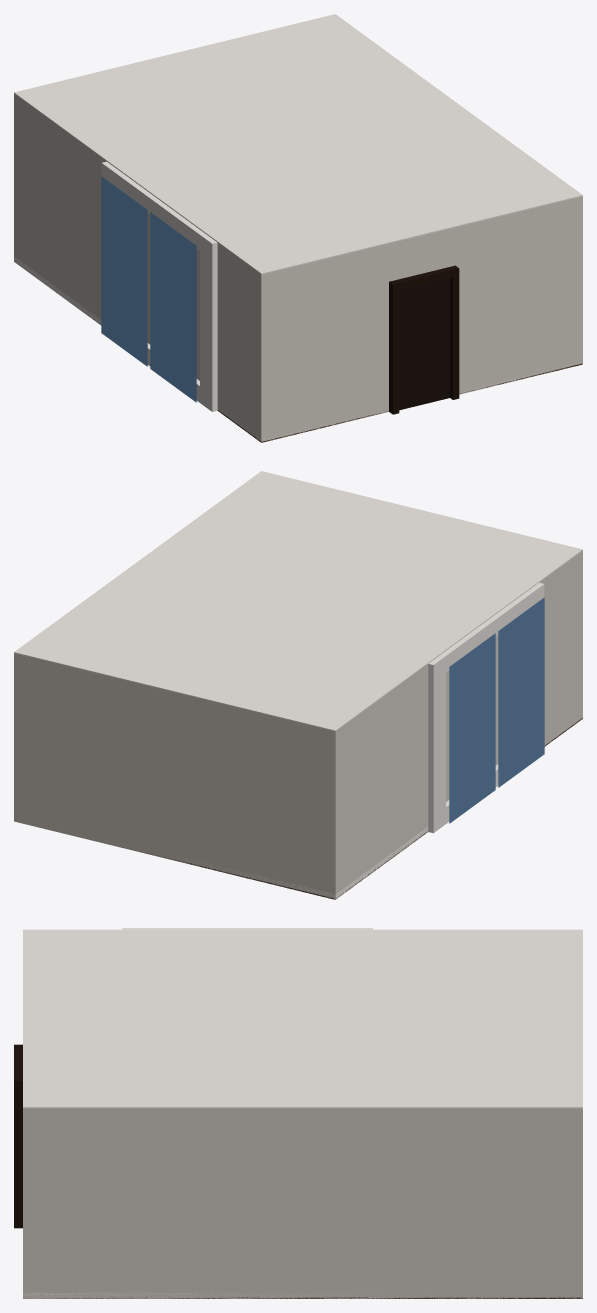
The model's file is bedroom_assembly.fbx.
3 renders of one model, top to bottom at view 1: azimuth 30°, elevation 25°; view 2: azimuth 150°, elevation 25°; view 3: azimuth 270°, elevation 25°, orthographic. The views are drawn at different scales.
Visible parts, largest first — view 1: Room_Shell|Ceiling_L_Bedroom_shell.blend|Dupli|1, Room_Shell|Wall_South_L_Bedroom_shell.blend|Dupli|3, Room_Shell|Wall_West_L_Bedroom_shell.blend|Dupli|5, Window_Frame_Group.001|Window_NightExterior_L_window.blend|D, Window_Frame_Group|Window_NightExterior_L_window.blend|Dupli, Door_Master_Col|Door_Panel_L_door.blend|Dupli|1, Window_Frame_Group.001|Wall_Left_L_window.blend|Dupli|2, Door_Master_Col|Frame_Left_L_door.blend|Dupli|28, Door_Master_Col|Frame_Right_L_door.blend|Dupli|29, Window_Frame_Group.001|Wall_Top_L_window.blend|Dupli|1, Window_Frame_Group|Wall_Top_L_window.blend|Dupli|1, Door_Master_Col|Frame_Top_L_door.blend|Dupli|30 (+1 smaller); view 2: Room_Shell|Ceiling_L_Bedroom_shell.blend|Dupli|1, Room_Shell|Wall_North_L_Bedroom_shell.blend|Dupli|2, Room_Shell|Wall_West_L_Bedroom_shell.blend|Dupli|5, Window_Frame_Group.001|Window_NightExterior_L_window.blend|D, Window_Frame_Group|Window_NightExterior_L_window.blend|Dupli, Window_Frame_Group|Wall_Right_L_window.blend|Dupli|3, Window_Frame_Group|Wall_Top_L_window.blend|Dupli|1, Window_Frame_Group.001|Wall_Top_L_window.blend|Dupli|1, Skirting|Skirting_North_L_Bedroom_shell.blend|Dupli|, Skirting|Skirting_West_L_Bedroom_shell.blend|Dupli|3; view 3: Room_Shell|Wall_East_L_Bedroom_shell.blend|Dupli|4, Room_Shell|Ceiling_L_Bedroom_shell.blend|Dupli|1, Door_Master_Col|Frame_Right_L_door.blend|Dupli|29, Skirting|Skirting_East_L_Bedroom_shell.blend|Dupli|2, Room_Shell|Floor_L_Bedroom_shell.blend|Dupli|.
Part boxes in pixels (box(x1,y1,x2,y2)): Room_Shell|Ceiling_L_Bedroom_shell.blend|Dupli|1: box(14, 14, 582, 274); Room_Shell|Wall_South_L_Bedroom_shell.blend|Dupli|3: box(261, 196, 582, 441); Room_Shell|Wall_West_L_Bedroom_shell.blend|Dupli|5: box(14, 94, 262, 442); Window_Frame_Group.001|Window_NightExterior_L_window.blend|D: box(150, 212, 196, 402); Window_Frame_Group|Window_NightExterior_L_window.blend|Dupli: box(101, 176, 147, 366); Door_Master_Col|Door_Panel_L_door.blend|Dupli|1: box(399, 277, 449, 410); Window_Frame_Group.001|Wall_Left_L_window.blend|Dupli|2: box(200, 252, 217, 395); Door_Master_Col|Frame_Left_L_door.blend|Dupli|28: box(389, 280, 399, 414); Door_Master_Col|Frame_Right_L_door.blend|Dupli|29: box(449, 265, 459, 399); Window_Frame_Group.001|Wall_Top_L_window.blend|Dupli|1: box(150, 198, 217, 260); Window_Frame_Group|Wall_Top_L_window.blend|Dupli|1: box(101, 161, 168, 219); Door_Master_Col|Frame_Top_L_door.blend|Dupli|30: box(389, 266, 458, 289); Room_Shell|Ceiling_L_Bedroom_shell.blend|Dupli|1: box(14, 471, 582, 731); Room_Shell|Wall_North_L_Bedroom_shell.blend|Dupli|2: box(14, 653, 335, 897); Room_Shell|Wall_West_L_Bedroom_shell.blend|Dupli|5: box(334, 551, 582, 899); Window_Frame_Group.001|Window_NightExterior_L_window.blend|D: box(498, 597, 544, 787); Window_Frame_Group|Window_NightExterior_L_window.blend|Dupli: box(449, 633, 495, 823); Window_Frame_Group|Wall_Right_L_window.blend|Dupli|3: box(428, 673, 445, 816); Window_Frame_Group|Wall_Top_L_window.blend|Dupli|1: box(428, 618, 495, 681); Window_Frame_Group.001|Wall_Top_L_window.blend|Dupli|1: box(478, 582, 544, 635); Skirting|Skirting_North_L_Bedroom_shell.blend|Dupli|: box(180, 858, 335, 899); Skirting|Skirting_West_L_Bedroom_shell.blend|Dupli|3: box(335, 728, 565, 899); Room_Shell|Wall_East_L_Bedroom_shell.blend|Dupli|4: box(23, 1108, 582, 1298); Room_Shell|Ceiling_L_Bedroom_shell.blend|Dupli|1: box(23, 929, 582, 1108); Door_Master_Col|Frame_Right_L_door.blend|Dupli|29: box(14, 1077, 22, 1228); Skirting|Skirting_East_L_Bedroom_shell.blend|Dupli|2: box(23, 1292, 562, 1298); Room_Shell|Floor_L_Bedroom_shell.blend|Dupli|: box(43, 1297, 582, 1298).
Size of the model in its own units: 625 by 305 by 813.
